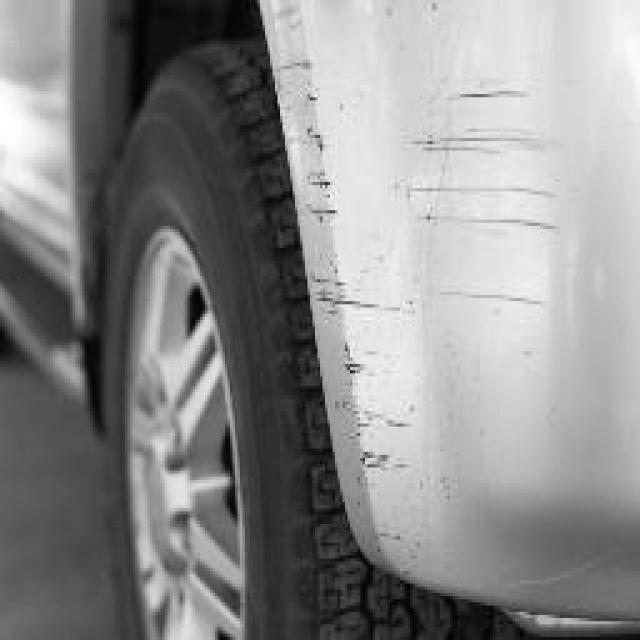Bumper: (265, 0, 632, 571)
